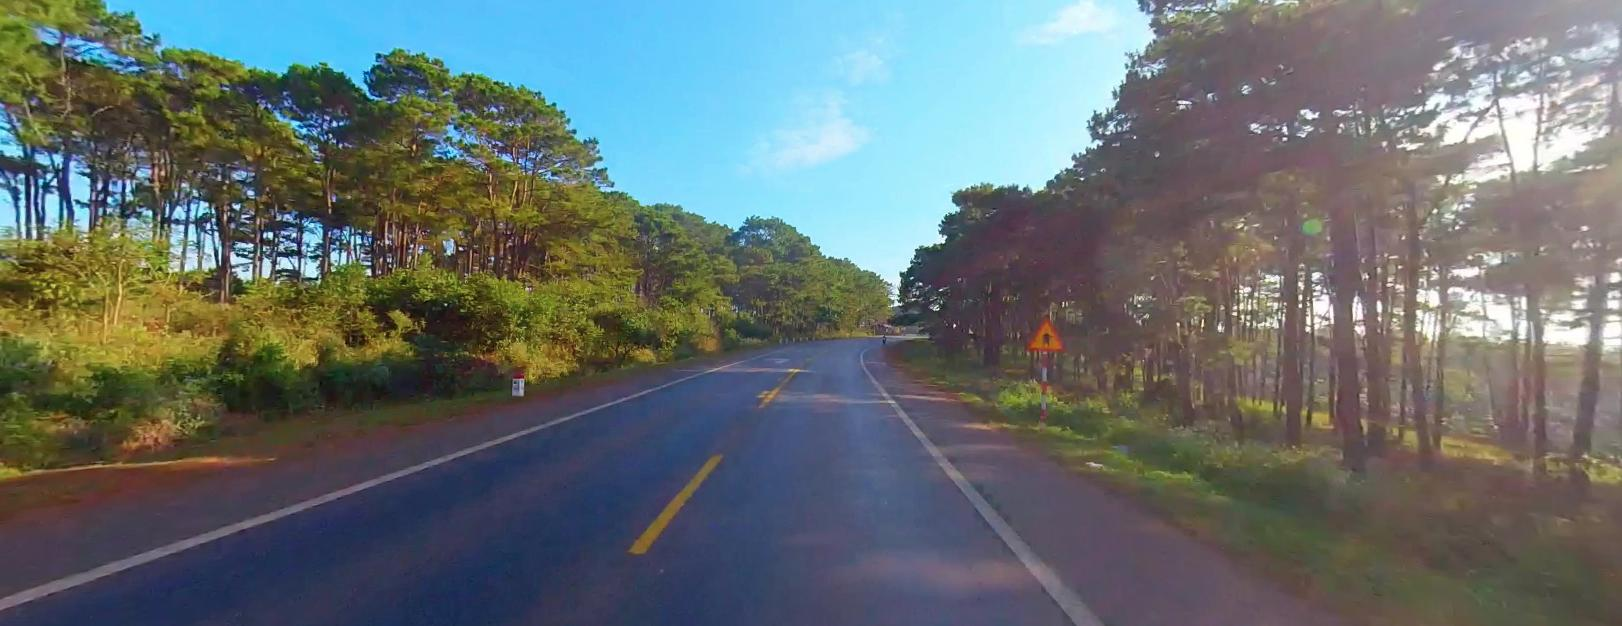Nguy hiem: (1025, 312, 1064, 349)
